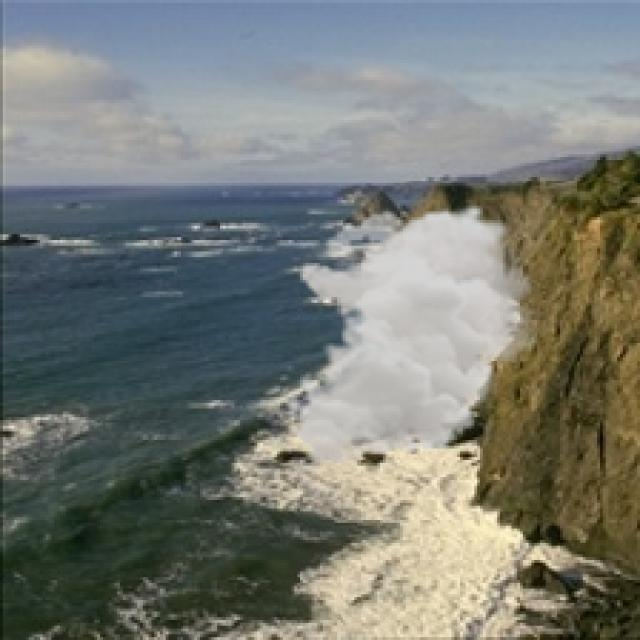smoke: (283, 203, 546, 466)
